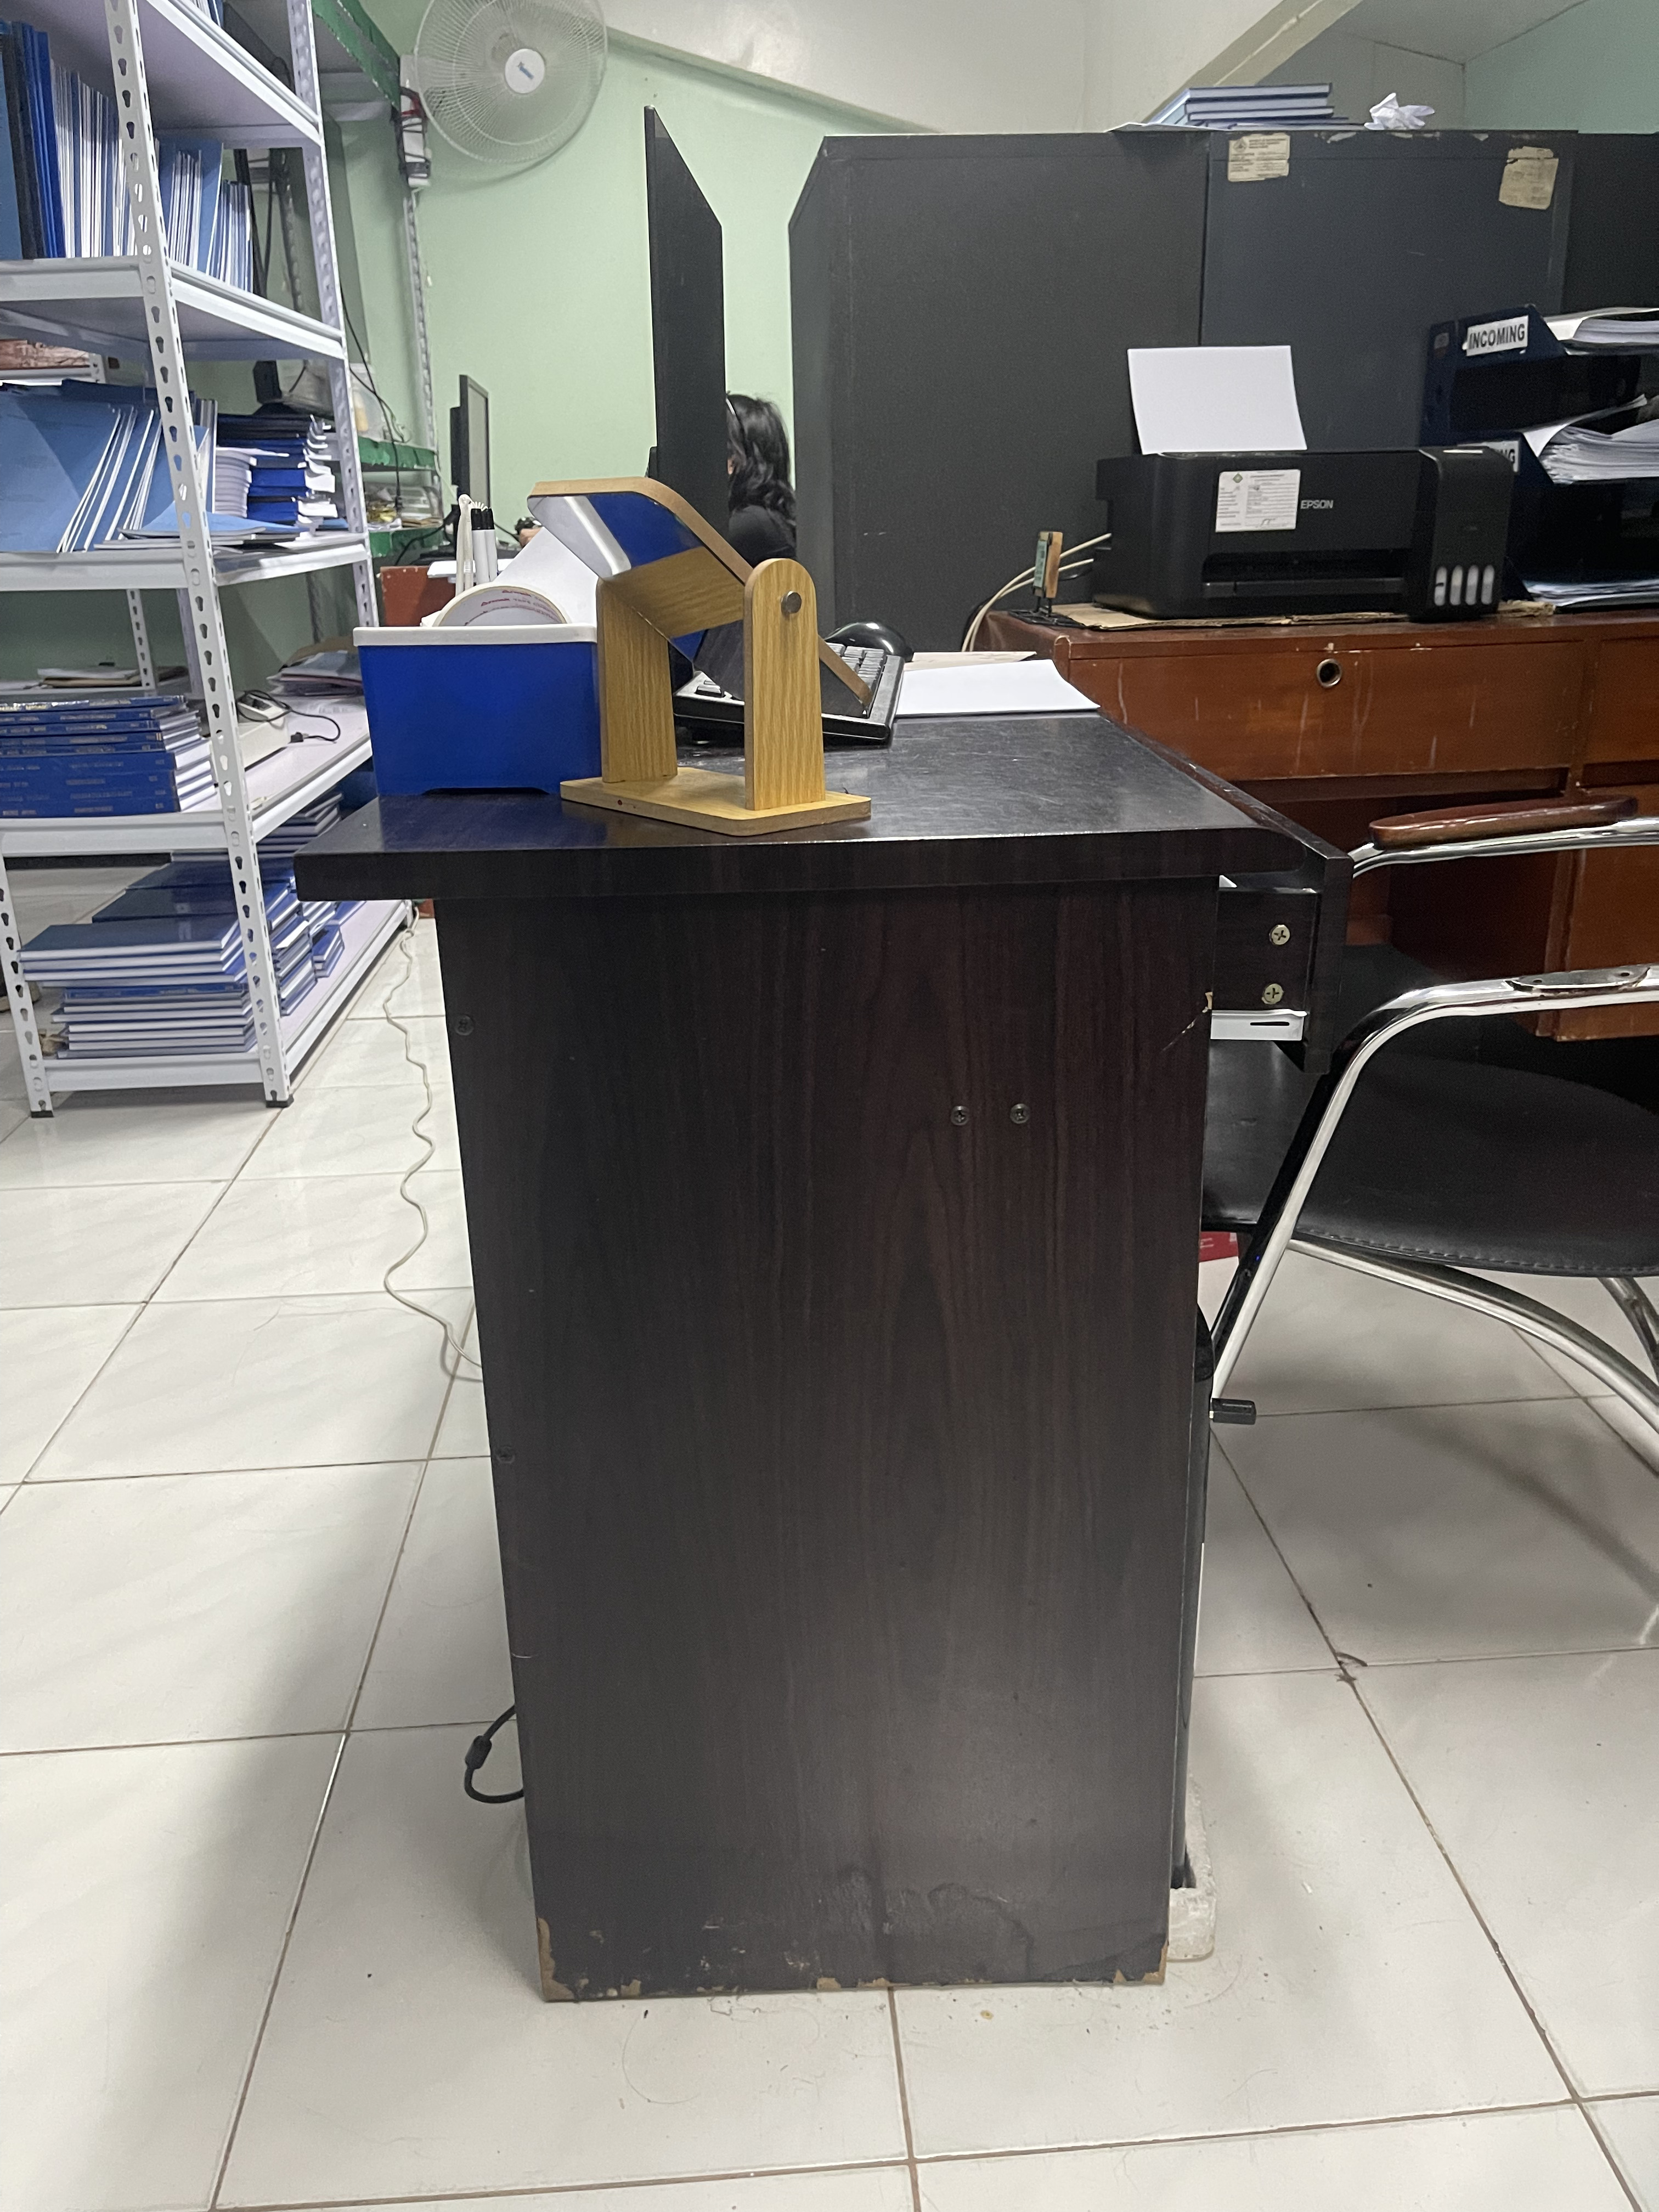table1: (305, 653, 1363, 2074)
